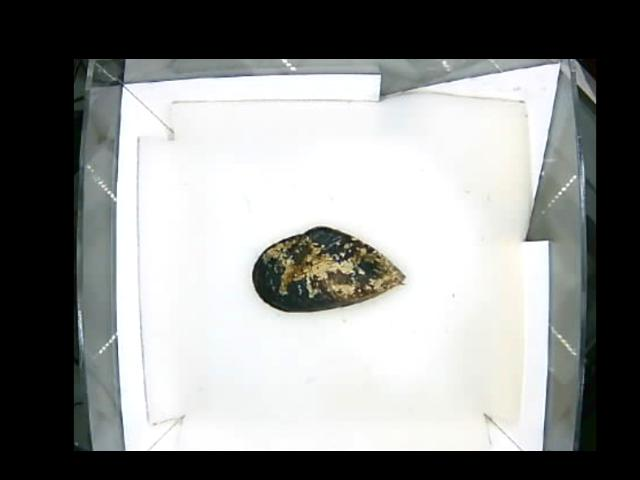Shell: (250, 224, 406, 312)
